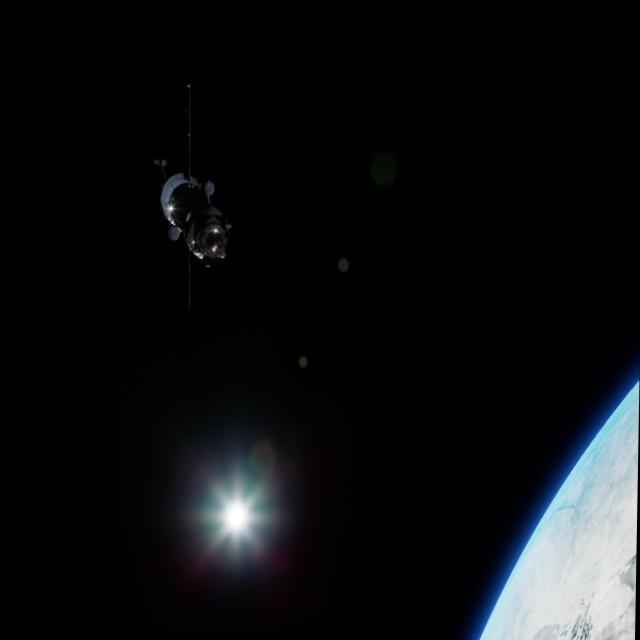Satellites revolving around earth: (152, 78, 236, 271)
